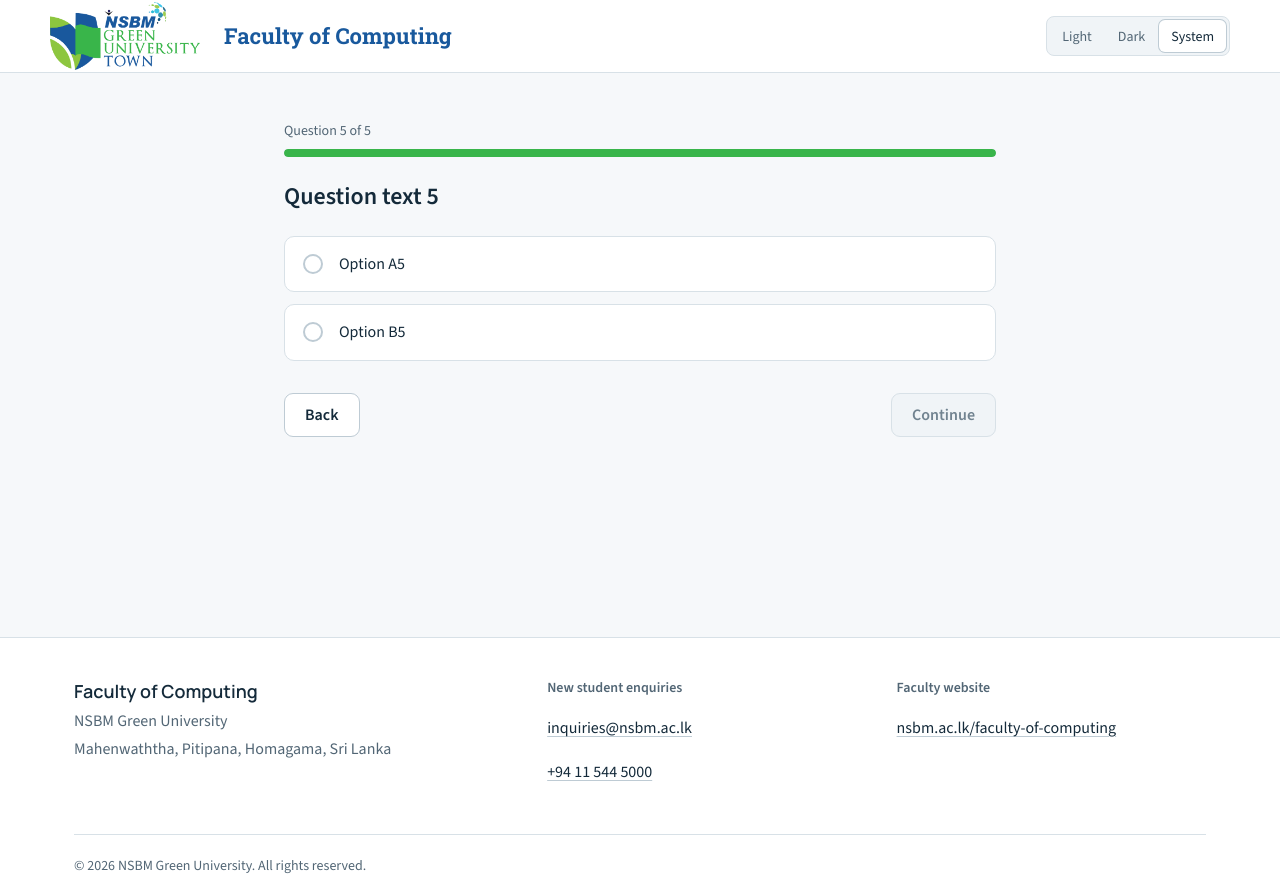
Scenario: questionnaire › continues to the results after the last question
Click the radio button labelled "Option A5". click: (372, 263)
box: x1=284 y1=236 x2=996 y2=292
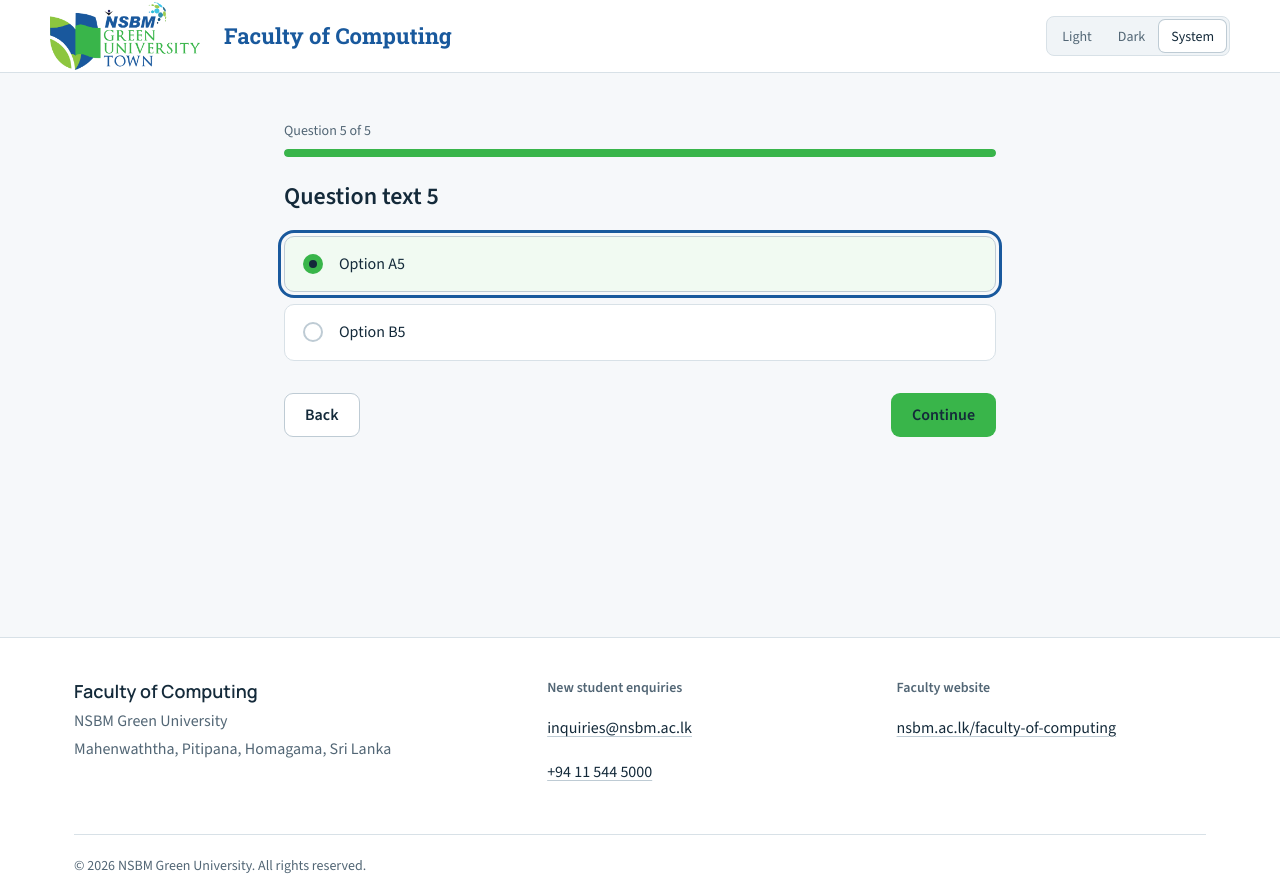
Click the button "Continue". click: (944, 415)
box: x1=891 y1=393 x2=996 y2=437
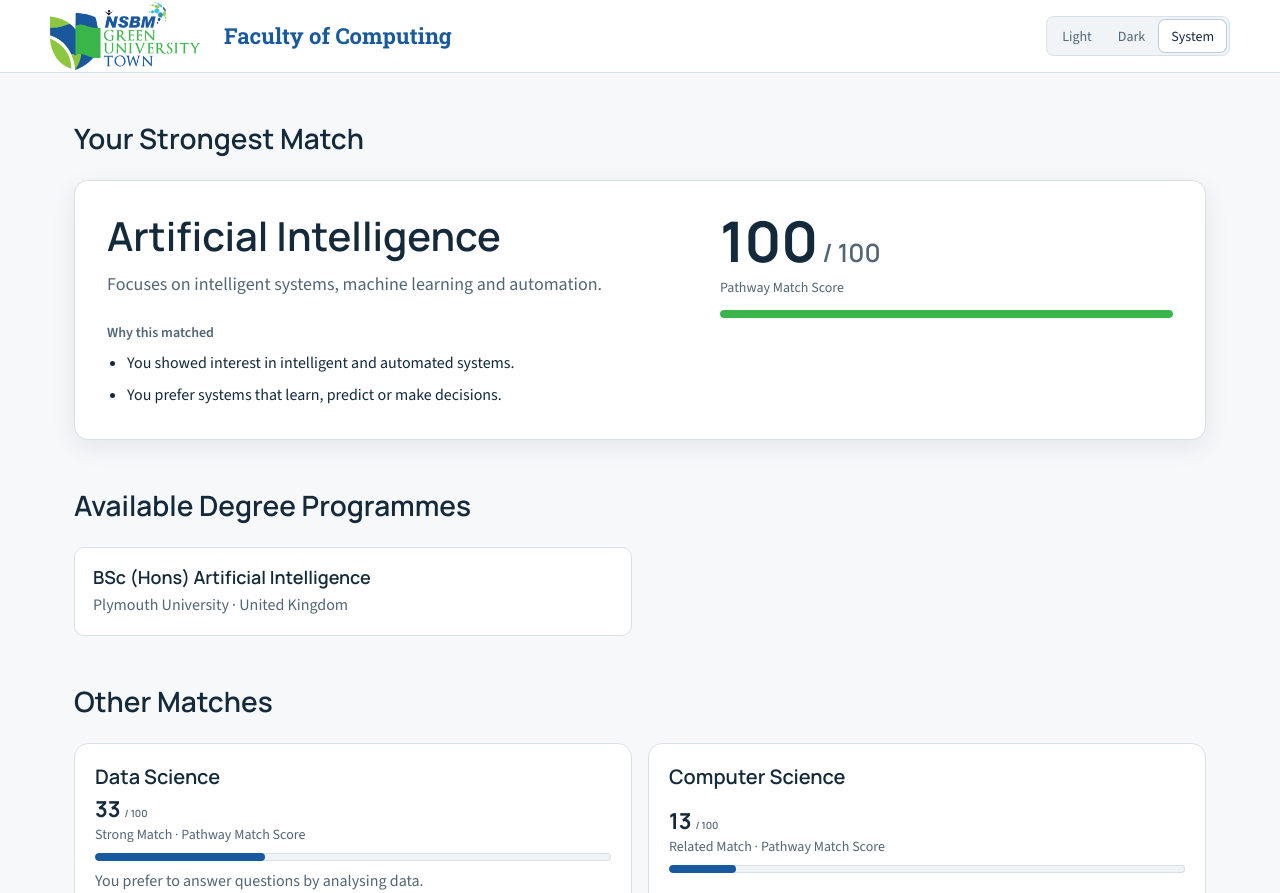
Expected: the heading "Your Strongest Match" is shown, x1=74 y1=119 x2=364 y2=157
